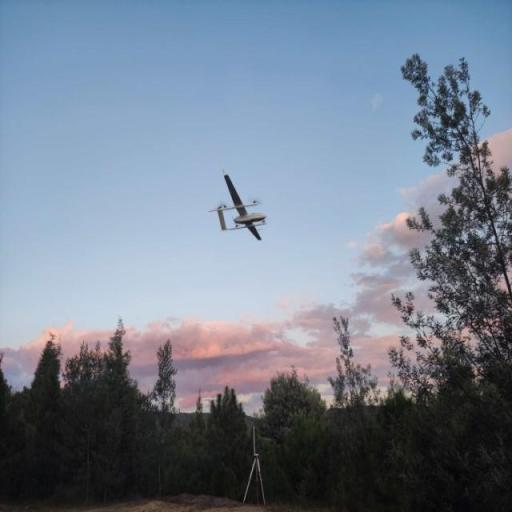uav: (198, 168, 280, 248)
